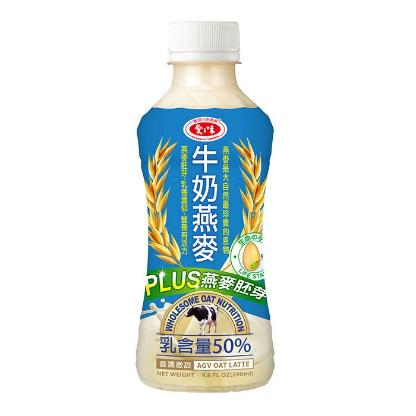Plastic Bottle: (136, 23, 274, 392)
